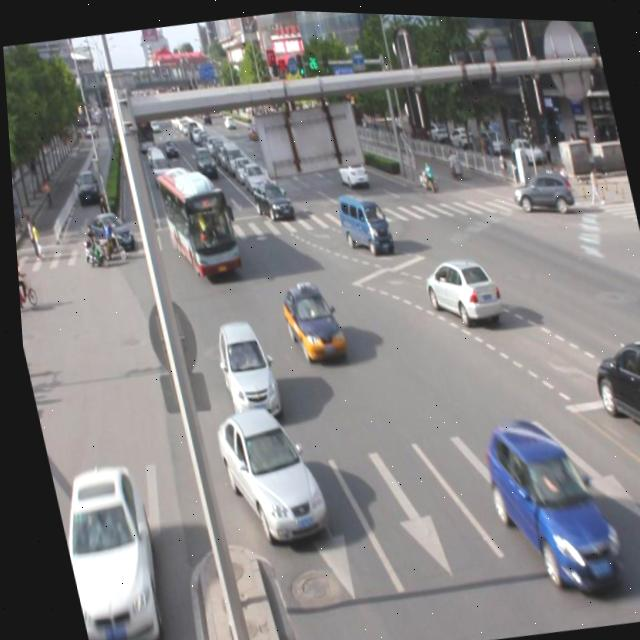car: (471, 404, 619, 596), (44, 456, 167, 640), (207, 397, 326, 548), (207, 313, 279, 422), (582, 328, 640, 453), (416, 246, 501, 325), (272, 274, 345, 364)
truck: (332, 185, 392, 255)
van: (152, 162, 240, 281)
